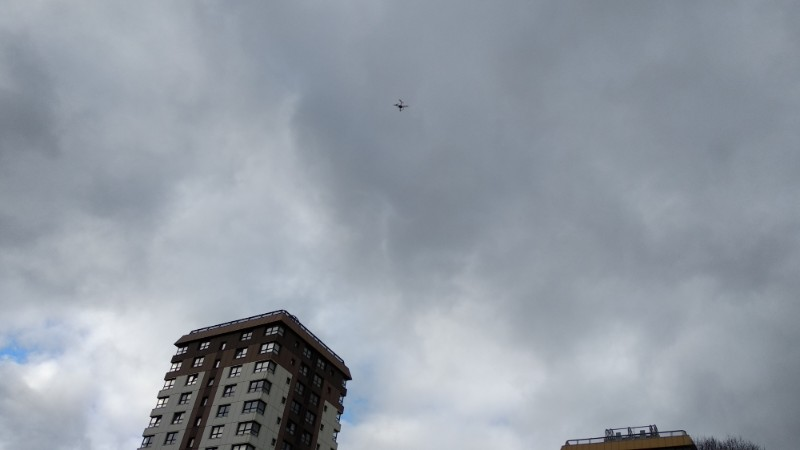drone: (394, 99, 408, 111)
